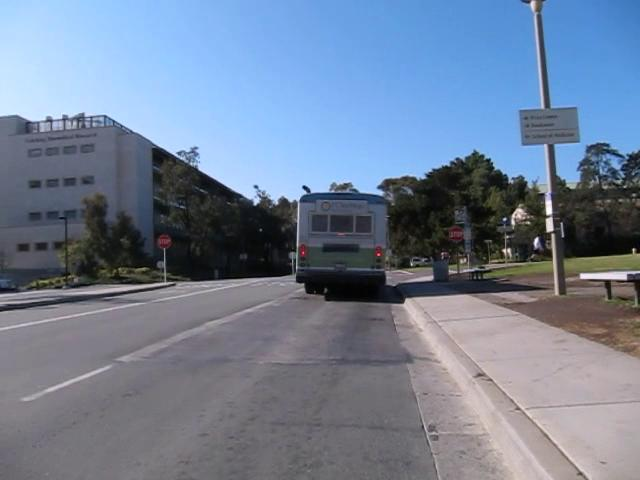stop: (156, 233, 172, 249)
